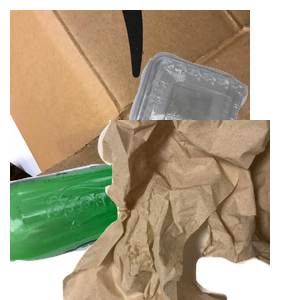cardboard: (10, 10, 250, 190)
glass: (10, 149, 203, 300)
plastic: (123, 50, 300, 214)
trash: (60, 120, 300, 300)
